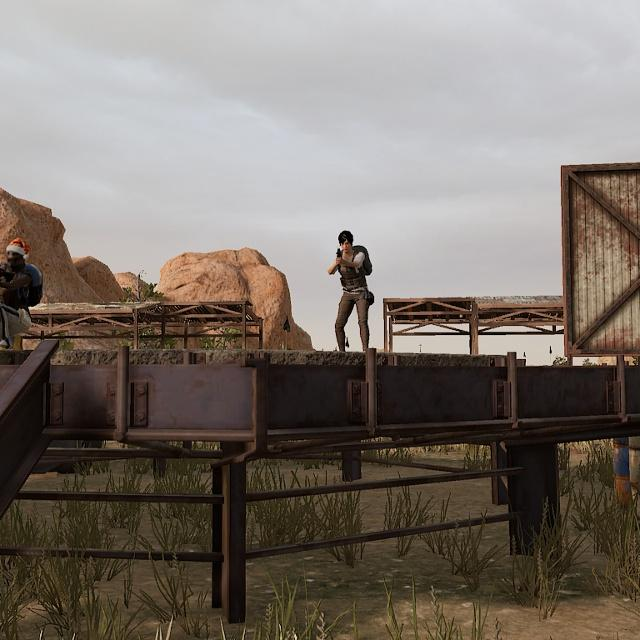head: (5, 238, 27, 270), (338, 229, 355, 253)
people: (324, 228, 378, 350), (0, 235, 43, 352)
